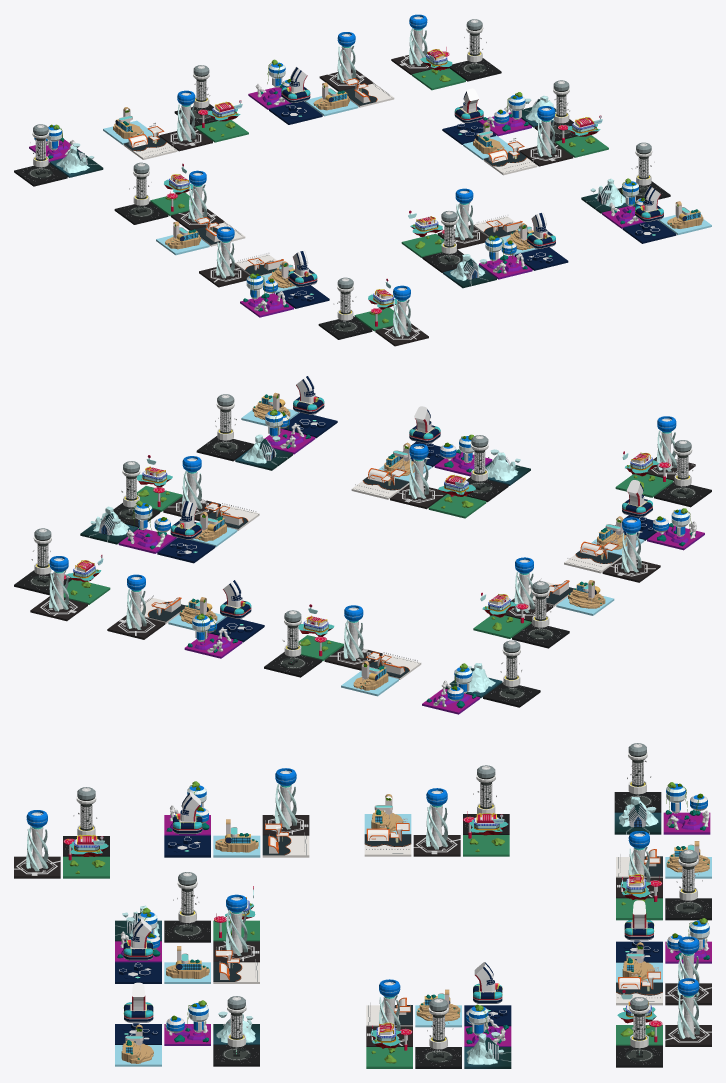
The model's file is D9_Commerce_Part_2.fbx.
3 views of the same model, one above another, from view 1: azimuth 30°, elevation 25°; view 2: azimuth 150°, elevation 25°; view 3: azimuth 270°, elevation 25° (orthographic). The views are drawn at different scales.
Visible parts, largest first — view 1: Cube.605, Cube.142, Cube.516, Cube.102, Cube.514, Cube.603, Cube.509, Cube.520, Cube.518, Cube.105, Cube.512, Cube.524 (+36 smaller); view 2: Cube.504, Cube.613, Cube.520, Cube.609, Cube.107, Cube.507, Cube.142, Cube.605, Cube.524, Cube.596, Cube.601, Cube.512 (+37 smaller); view 3: Cube.516, Cube.514, Cube.102, Cube.593, Cube.613, Cube.597, Cube.104, Cube.601, Cube.612, Cube.506, Cube.144, Cube.511 (+38 smaller).
Boxes of the visible parts, <box> form: Cube.605: <box>269,67,322,124</box>; Cube.142: <box>622,186,676,243</box>; Cube.516: <box>276,250,329,308</box>; Cube.102: <box>514,212,568,270</box>; Cube.514: <box>375,285,428,346</box>; Cube.603: <box>159,90,212,151</box>; Cube.509: <box>519,106,573,166</box>; Cube.520: <box>199,226,249,287</box>; Cube.518: <box>240,273,293,317</box>; Cube.105: <box>479,235,532,279</box>; Cube.512: <box>318,277,372,339</box>; Cube.524: <box>114,162,168,224</box>; Cube.504: <box>157,500,215,563</box>; Cube.613: <box>30,556,87,621</box>; Cube.520: <box>602,517,660,582</box>; Cube.609: <box>107,574,165,639</box>; Cube.107: <box>390,443,447,509</box>; Cube.507: <box>118,500,176,553</box>; Cube.142: <box>280,375,337,438</box>; Cube.605: <box>207,580,264,642</box>; Cube.524: <box>512,581,569,648</box>; Cube.596: <box>483,640,540,707</box>; Cube.601: <box>264,610,321,677</box>; Cube.512: <box>654,440,711,507</box>; Cube.516: <box>164,792,210,857</box>; Cube.514: <box>14,810,60,878</box>; Cube.102: <box>115,918,161,983</box>; Cube.593: <box>413,788,460,856</box>; Cube.613: <box>665,978,711,1046</box>; Cube.597: <box>663,782,710,834</box>; Cube.104: <box>164,872,210,942</box>; Cube.601: <box>665,849,711,920</box>; Cube.612: <box>616,997,662,1067</box>; Cube.506: <box>415,998,461,1068</box>; Cube.144: <box>213,996,259,1066</box>; Cube.511: <box>63,834,109,878</box>.
Bounding box in the file's own units: 55302 × 5654 × 59705.
Materials: 22 (20 with a texture image).
